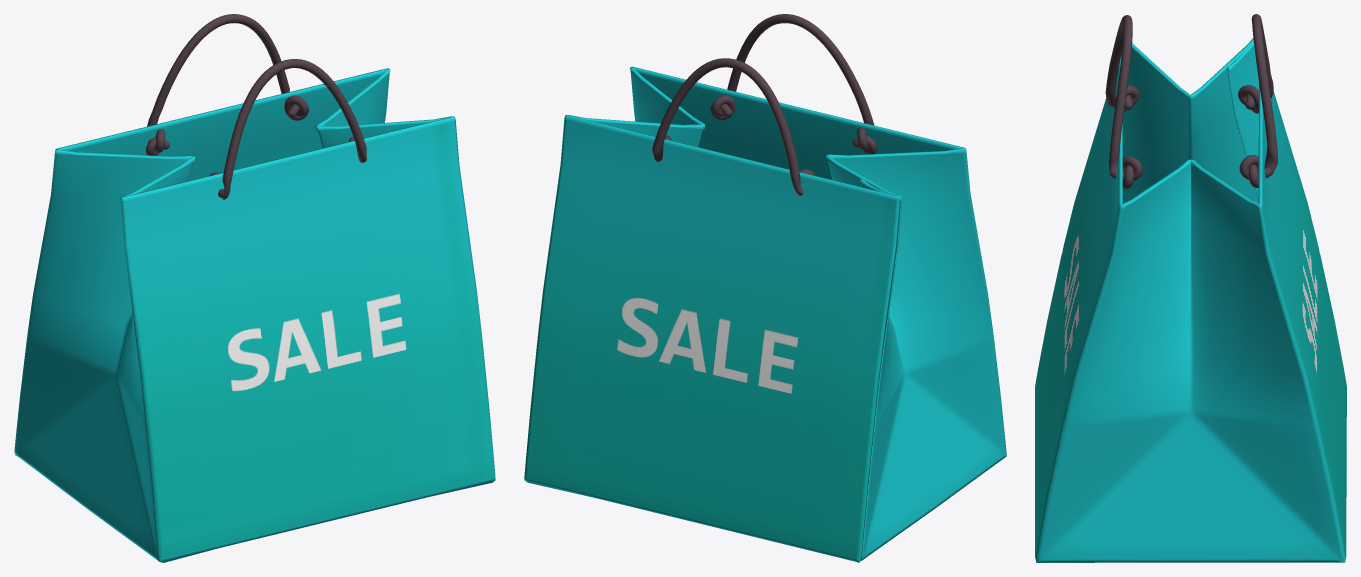
File: Bag.glb
3 views of the same model, side by side, from view 1: azimuth 30°, elevation 25°; view 2: azimuth 150°, elevation 25°; view 3: azimuth 270°, elevation 25° (orthographic). The views are drawn at different scales.
Visible parts, largest first — view 1: Bag.001, Handle_02, Handle_01; view 2: Bag.001, Handle_01, Handle_02; view 3: Bag.001, Handle_01, Handle_02.
Boxes of the visible parts, box(x1,y1,x2,y2) form: Bag.001: box(14, 68, 495, 562); Handle_02: box(146, 14, 308, 155); Handle_01: box(209, 59, 366, 199); Bag.001: box(524, 66, 1006, 562); Handle_01: box(710, 14, 876, 154); Handle_02: box(652, 58, 815, 195); Bag.001: box(1035, 38, 1346, 562); Handle_01: box(1105, 15, 1142, 189); Handle_02: box(1238, 14, 1277, 187).
Bounding box in the file's own units: 0.544 × 0.6647 × 0.4092.
1 material, 1 textured.
